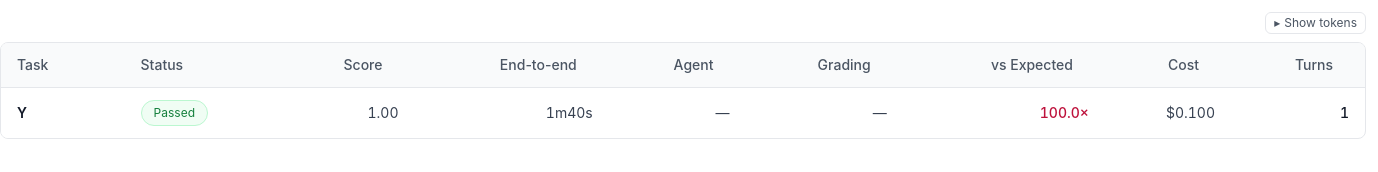
TaskGrid — Tokens↔USD toggle › USD mode shows em-dash for an unpriced model
Click the button "▸ Show tokens": (1316, 23) [1265,12,1366,34]
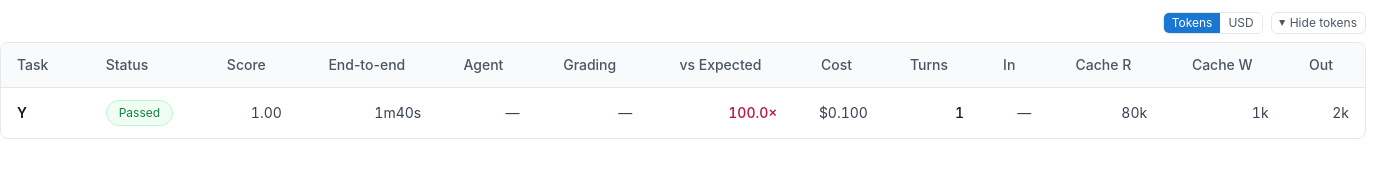
Click the button "USD": (1241, 23) [1220,13,1262,33]
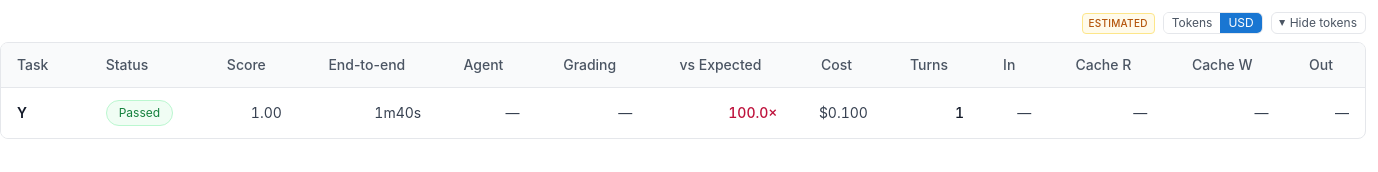
Result: the text "estimated" is shown at [1082,12,1155,34]
